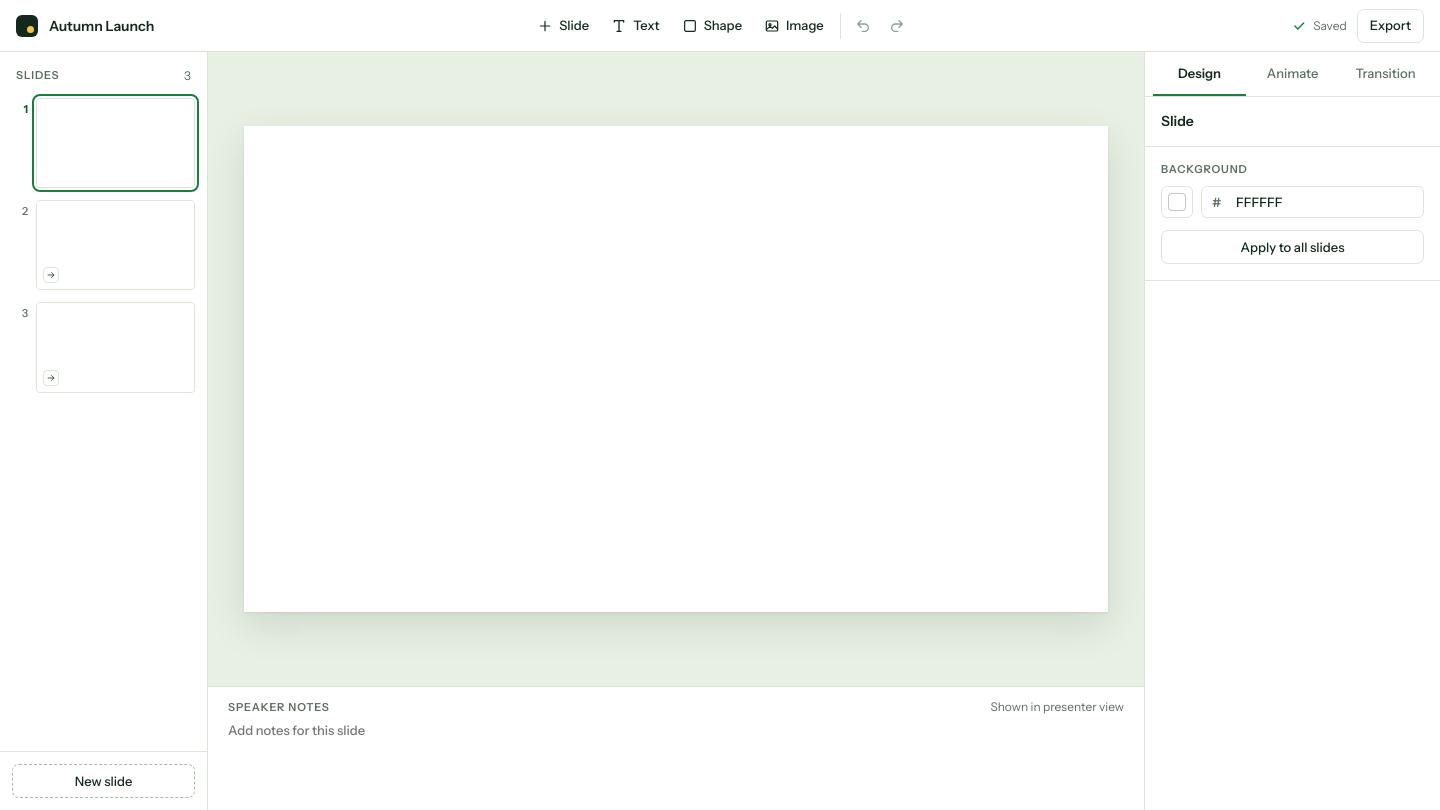
Test: Given slides with their own transitions, When the slide changes, Then the panel shows each one
Expected: the option named "Slide 1" is shown, top-left (12, 98), bottom-right (195, 188)
Click the option named "Slide 2" at (104, 245), box top-left (12, 200), bottom-right (195, 290)
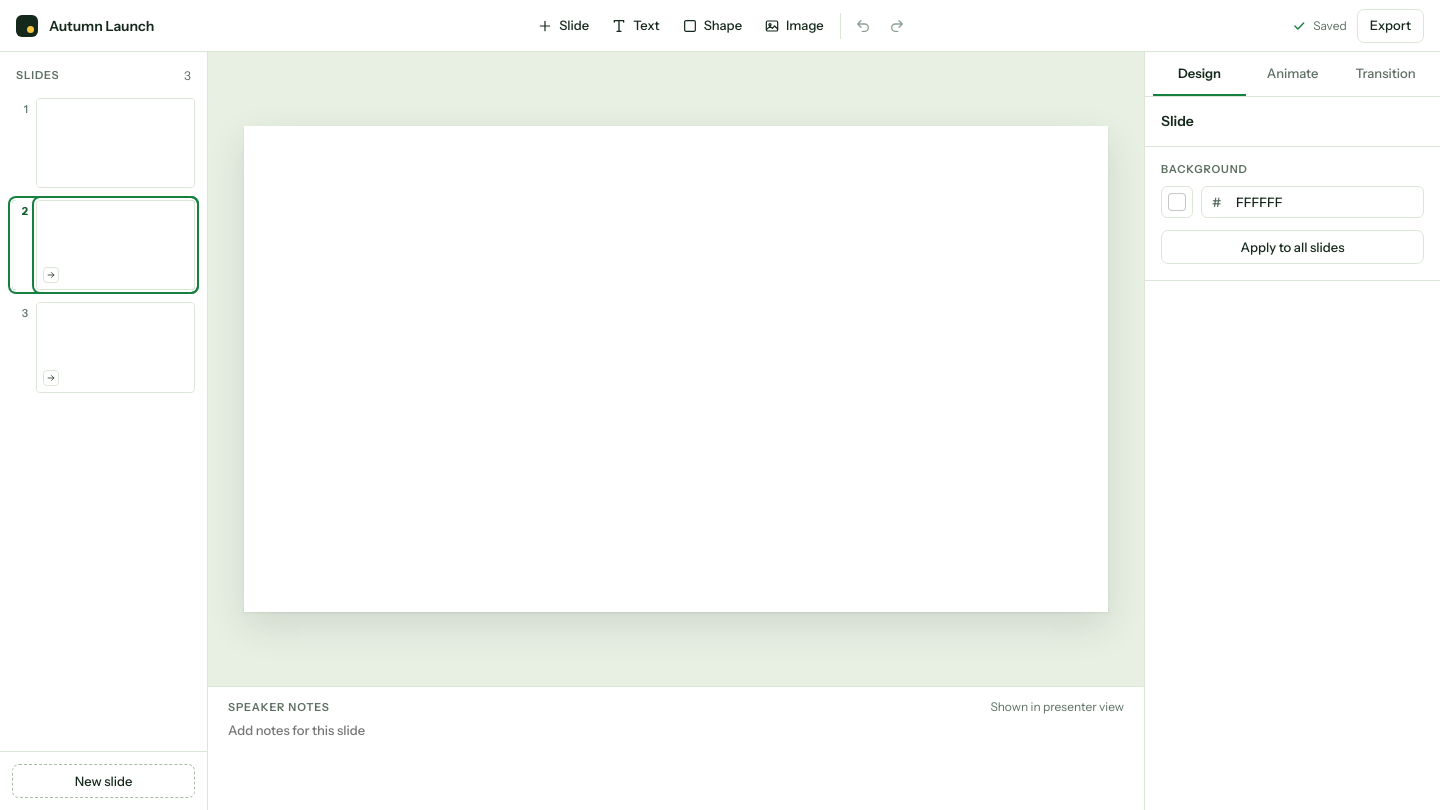
Click the tab "Transition" at (1386, 74), box top-left (1339, 52), bottom-right (1432, 96)
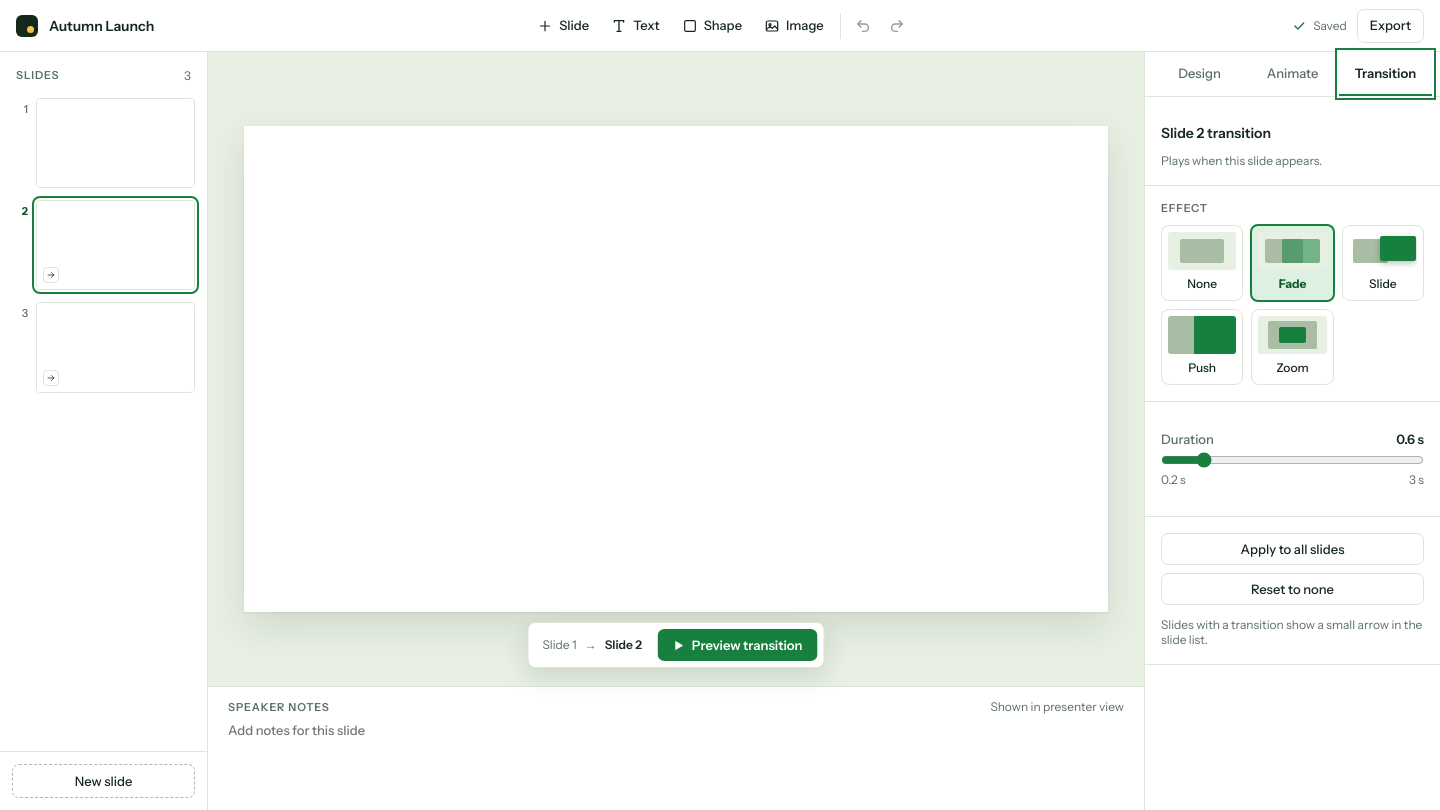
Click the option named "Slide 3" at (104, 347), box top-left (12, 302), bottom-right (195, 392)
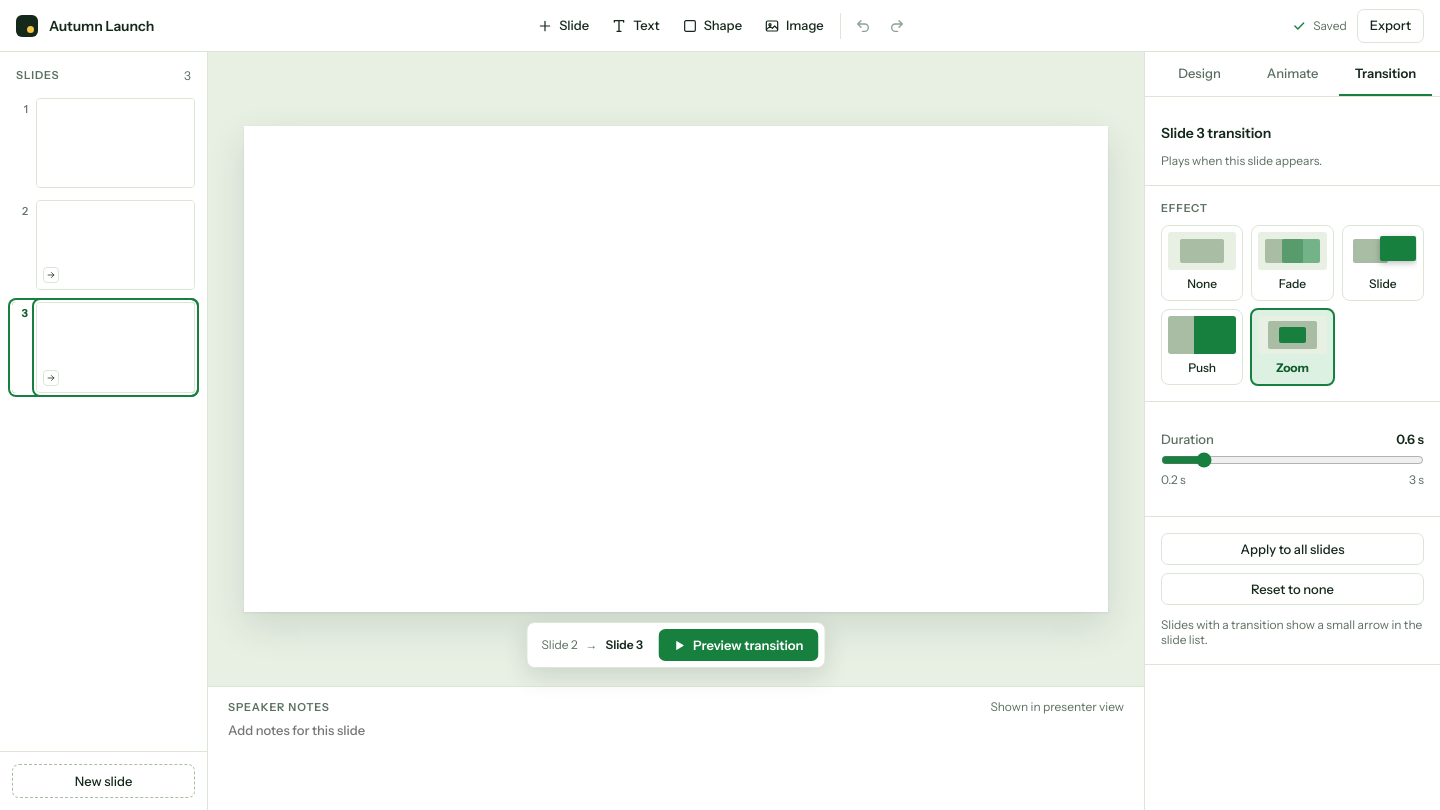
Now the heading "Slide 3 transition" is shown, box top-left (1161, 124), bottom-right (1271, 142)
